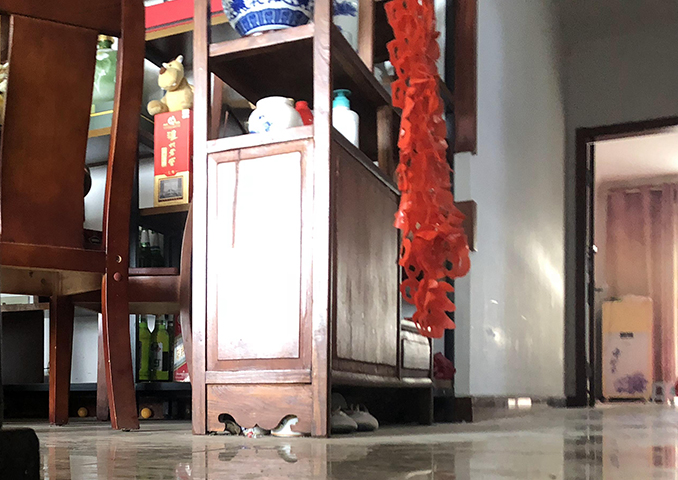cabinet: (189, 124, 465, 438)
stool: (1, 1, 147, 433), (652, 381, 675, 404)
